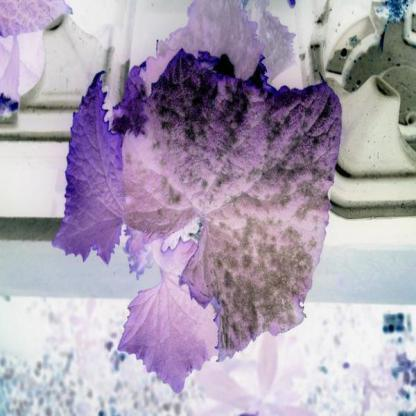Squash Powdery mildew leaf: (110, 63, 342, 368)
